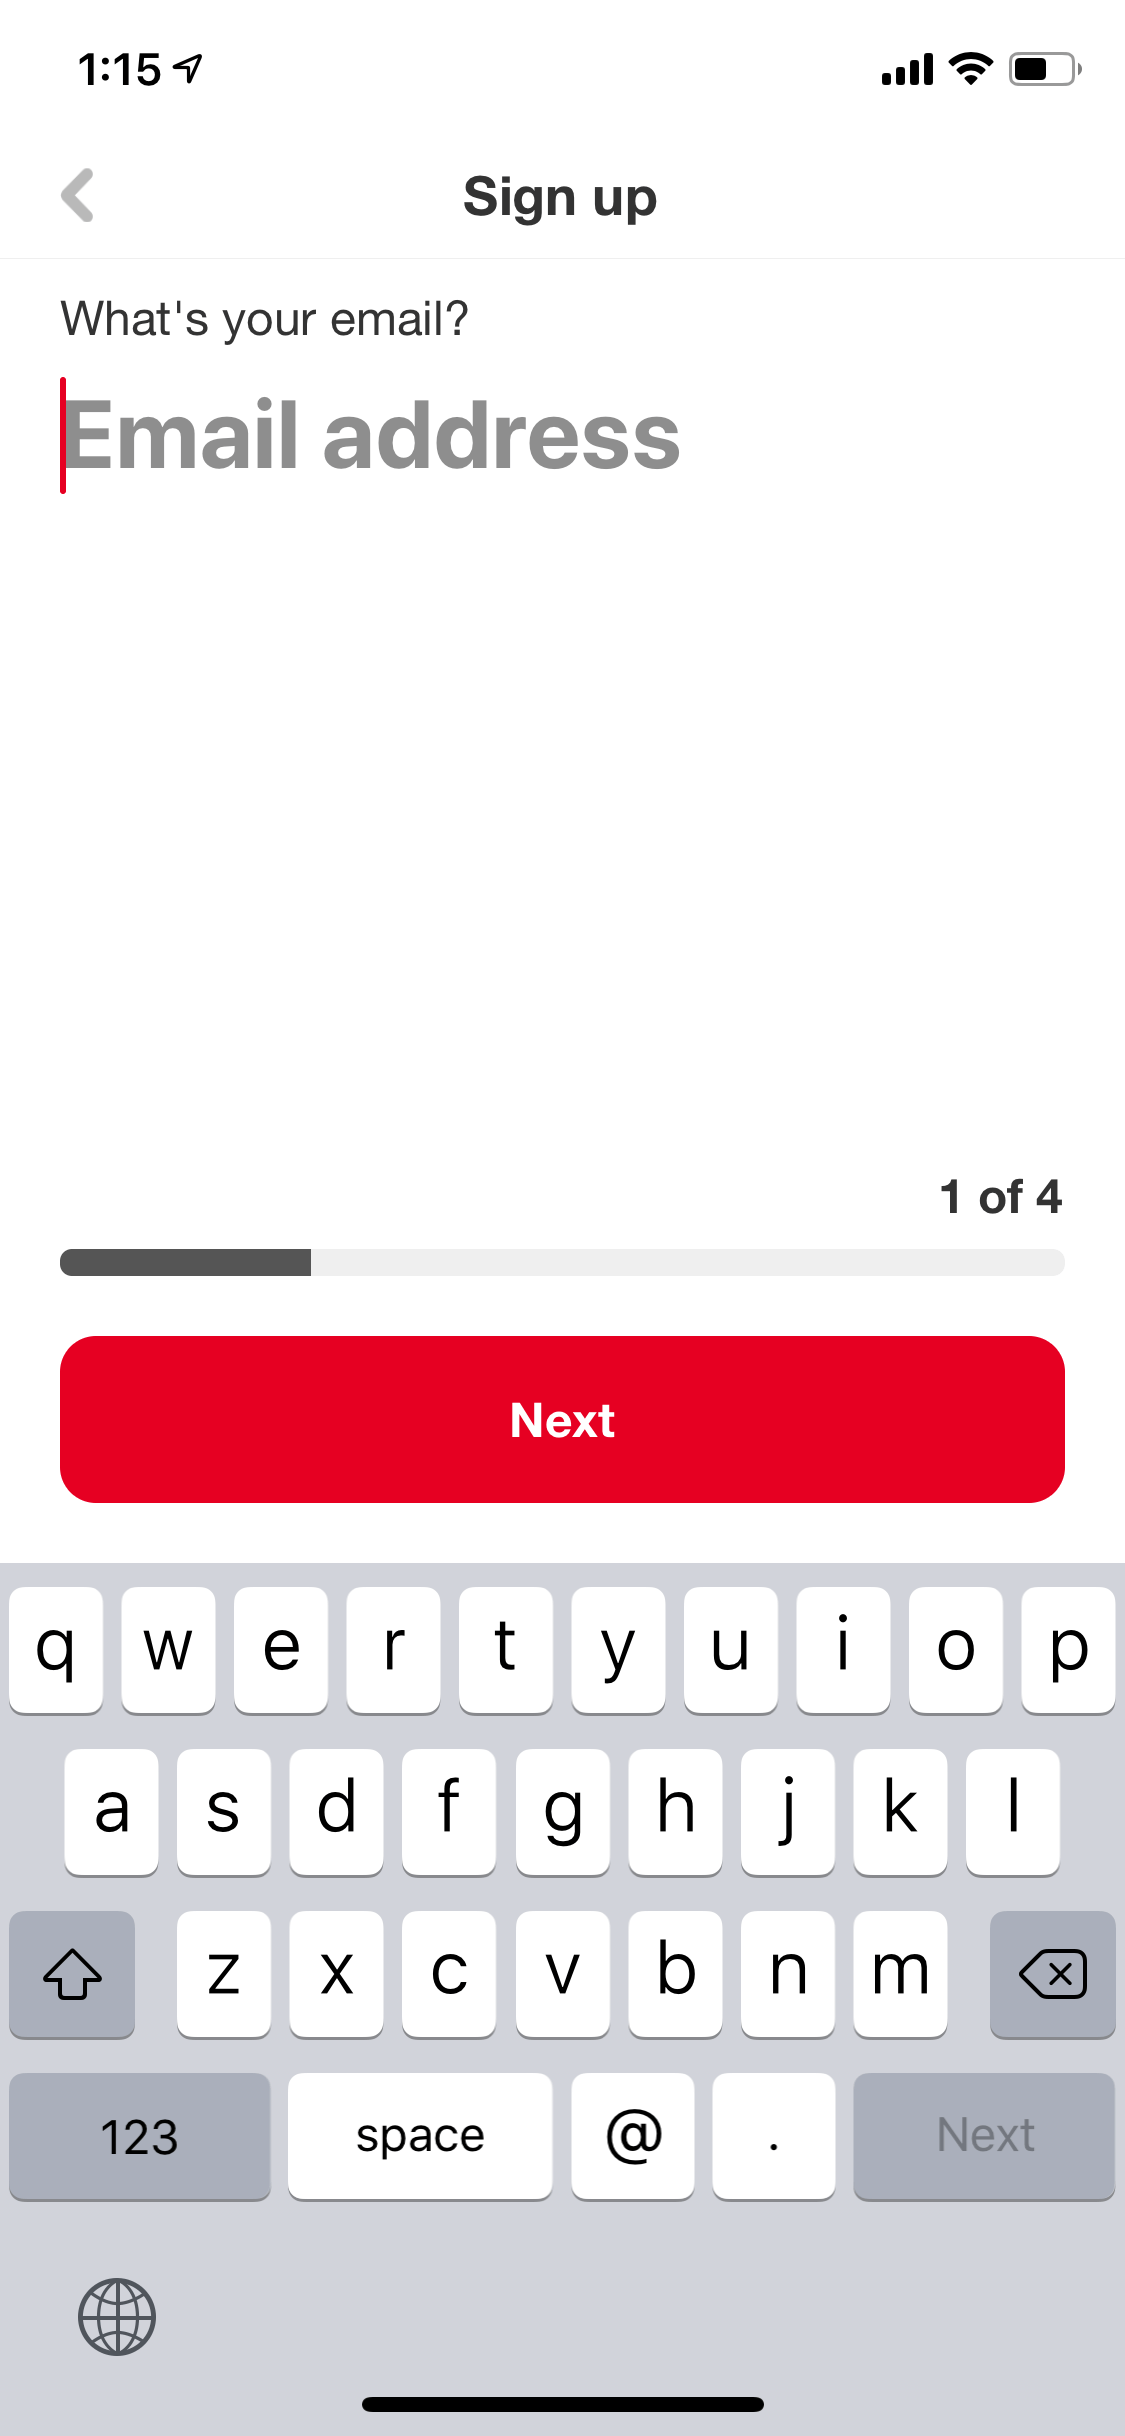Buttons: (59, 1328, 1068, 1515), (26, 123, 148, 255)
Progress indicators: (9, 1151, 1123, 1316)
Text Fields: (2, 289, 1125, 527)
